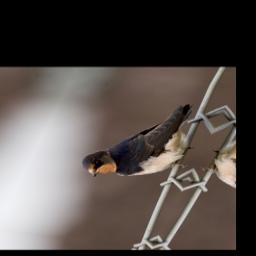Swallow: (73, 93, 218, 188)
